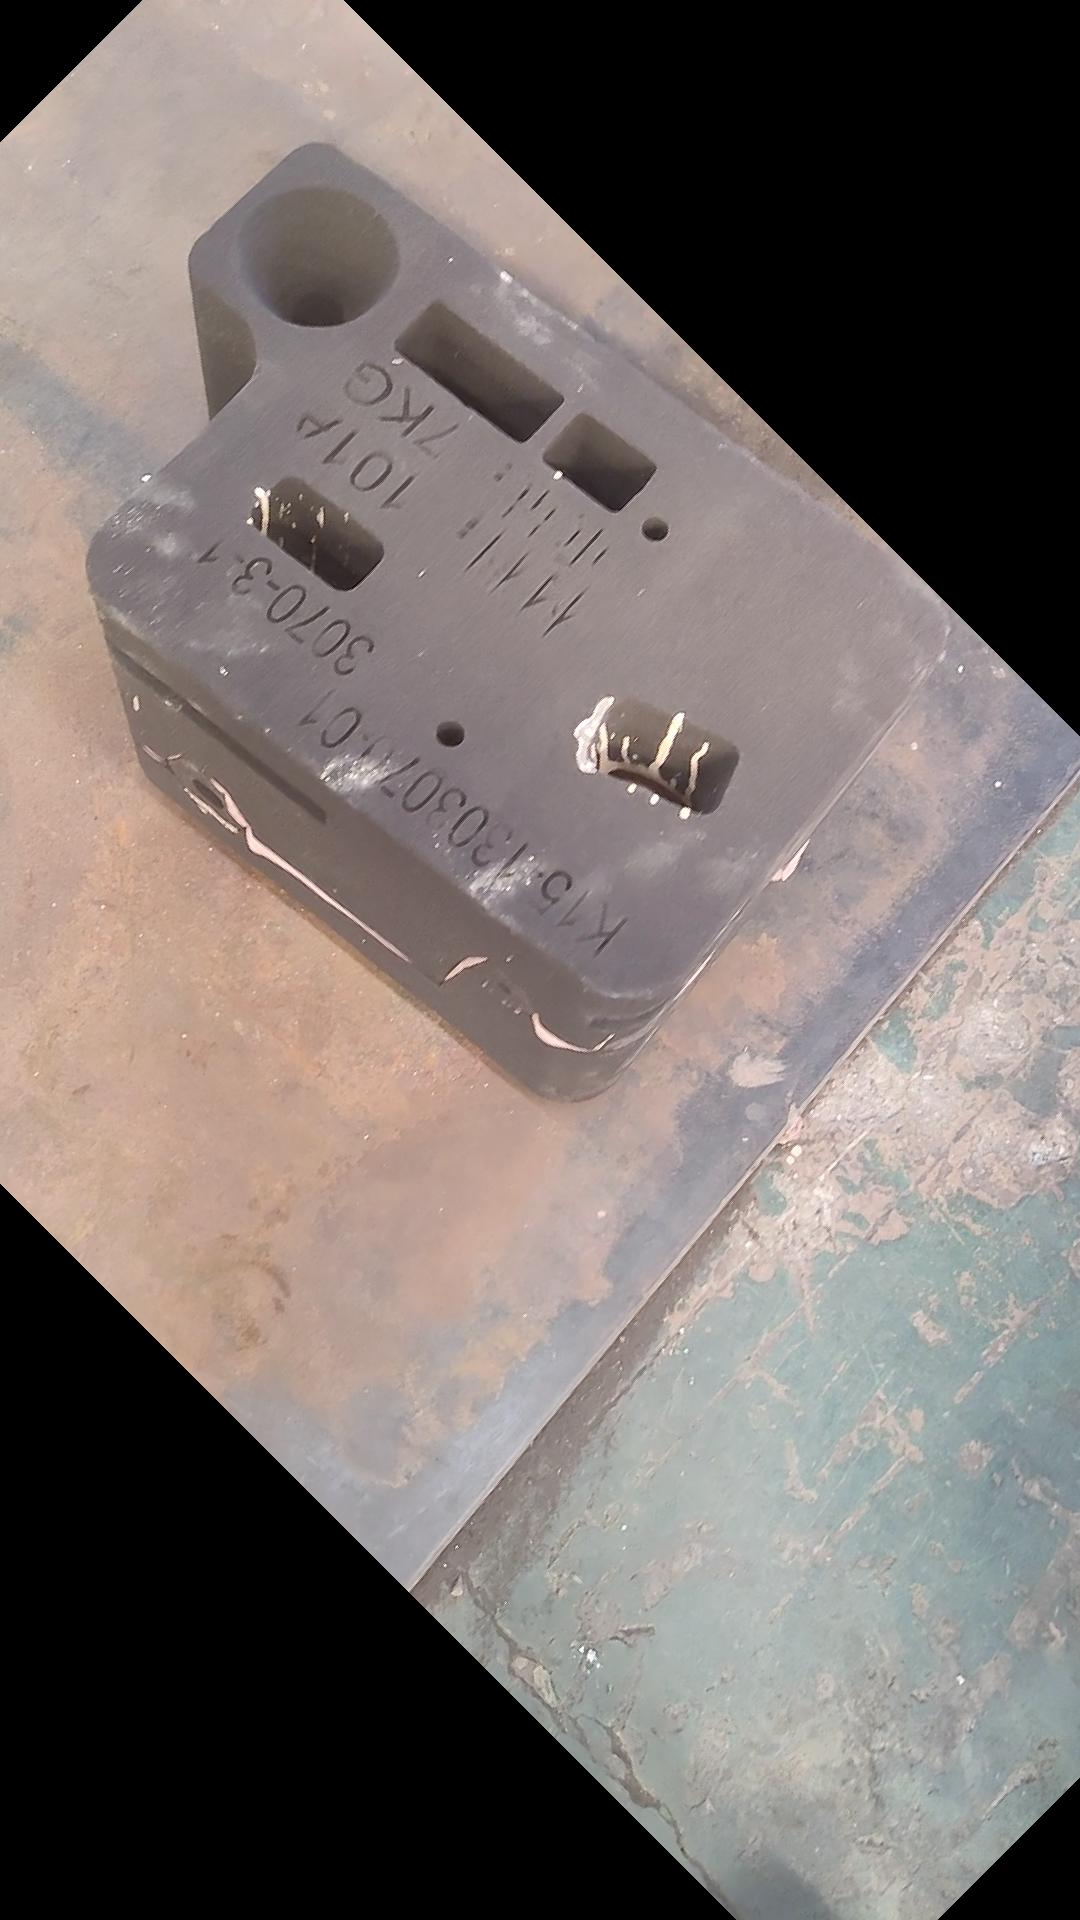pouring hole: (237, 187, 400, 327)
